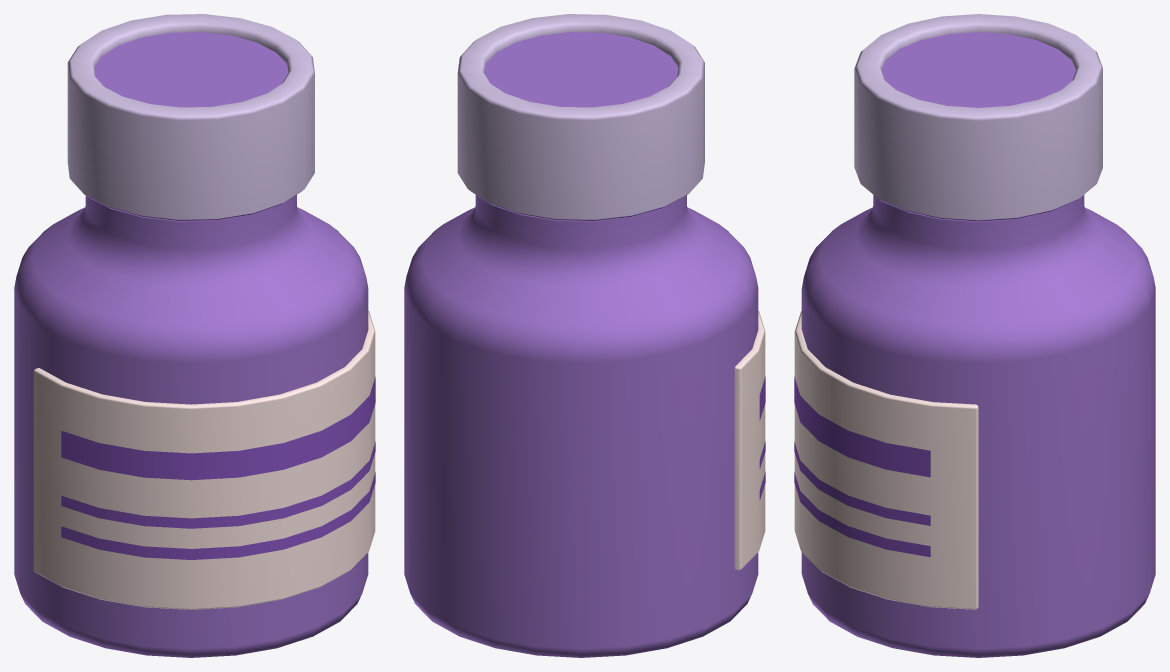
File: Public_3_Bottle_of_Medicine_2.glb
The picture shows the model from 3 angles, left to right: view 1: azimuth 30°, elevation 25°; view 2: azimuth 150°, elevation 25°; view 3: azimuth 270°, elevation 25°; orthographic projection.
Visible parts, largest first — view 1: Public_3_Bottle_of_Medicine_2; view 2: Public_3_Bottle_of_Medicine_2; view 3: Public_3_Bottle_of_Medicine_2.
Part boxes in pixels (<box>): Public_3_Bottle_of_Medicine_2: <box>14,14,375,657</box>; Public_3_Bottle_of_Medicine_2: <box>404,14,765,657</box>; Public_3_Bottle_of_Medicine_2: <box>794,14,1155,657</box>.
Bounding box in the file's own units: 1.26 × 1.99 × 1.24.
Materials: 1 (1 with a texture image).
